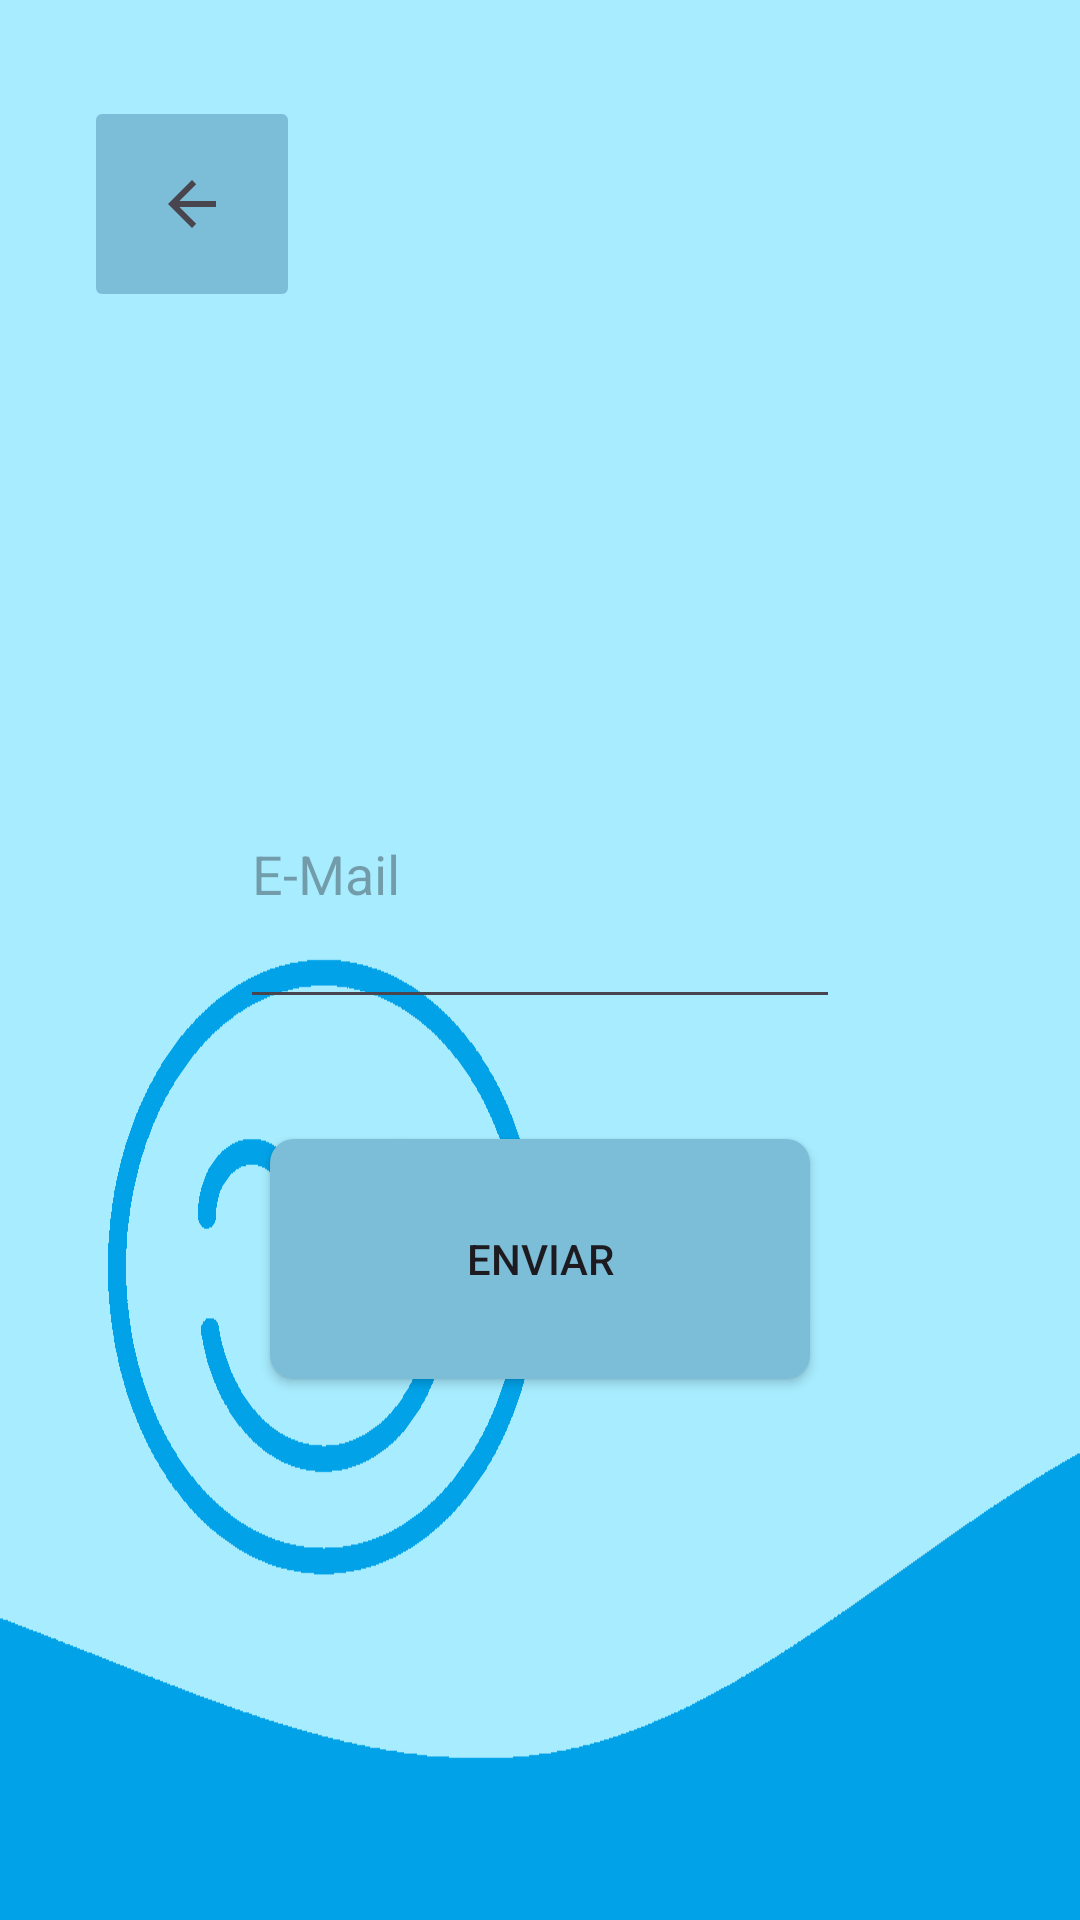

Named icons in this screenshot (1080 × 1920) and their centers, point (x, y):
Voltar: point (192, 204)
